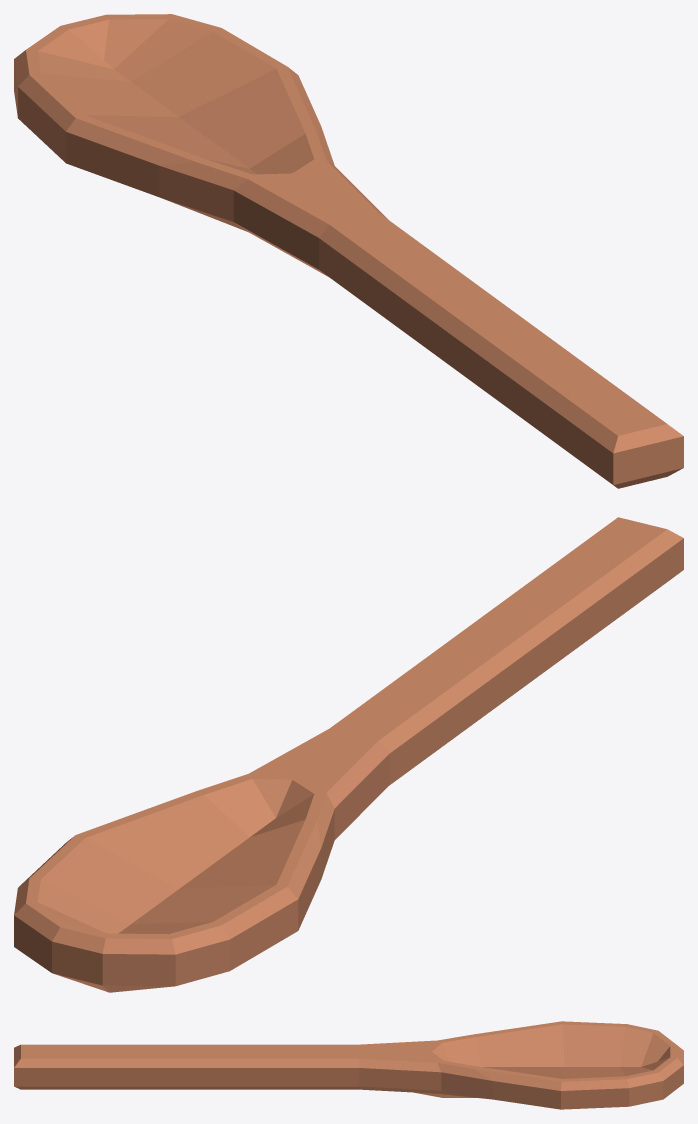
The model's file is Spoon.fbx.
The picture shows the model from 3 angles, top to bottom: view 1: azimuth 30°, elevation 25°; view 2: azimuth 150°, elevation 25°; view 3: azimuth 270°, elevation 25°; orthographic projection. The views are drawn at different scales.
Parts seen in each view (by area): view 1: Spoon; view 2: Spoon; view 3: Spoon.
Part boxes in pixels (x1,y1,x2,y2): Spoon: (14,14,683,488); Spoon: (14,517,683,992); Spoon: (14,1021,683,1109).
Size of the model in its own units: 0.092 by 0.392 by 0.03.
